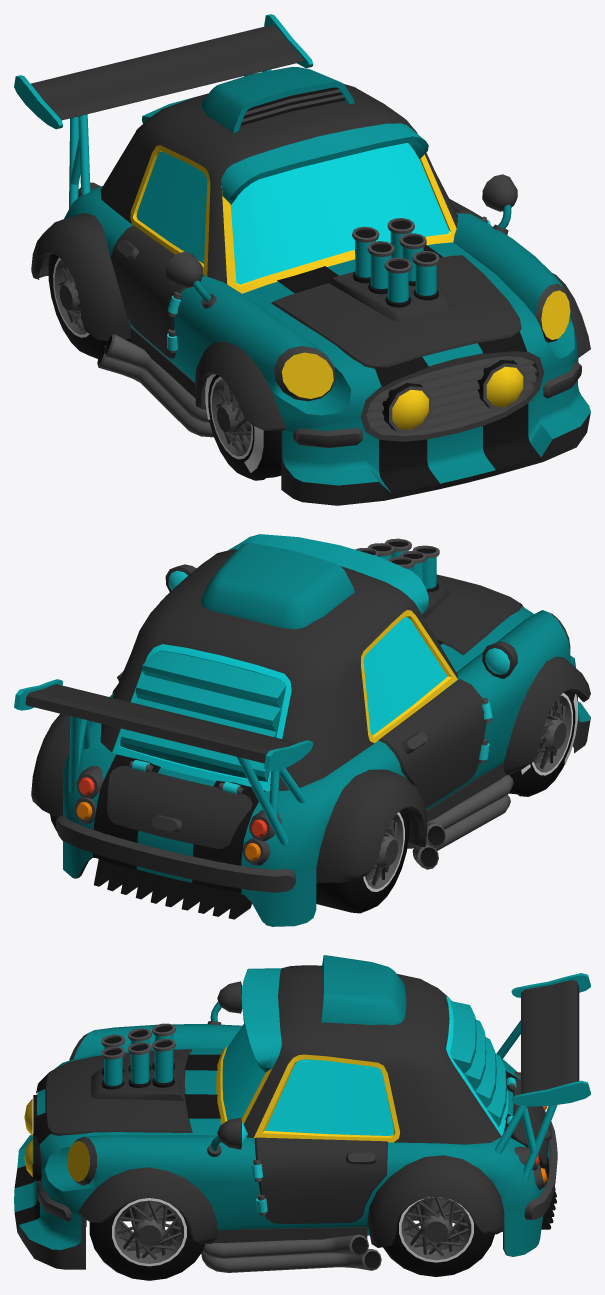
The model's file is VEH16-C.fbx.
The picture shows the model from 3 angles, top to bottom: view 1: azimuth 30°, elevation 25°; view 2: azimuth 150°, elevation 25°; view 3: azimuth 270°, elevation 25°; orthographic projection. The views are drawn at different scales.
Visible parts, largest first — view 1: VEH16_C, V16C_Wheel_FR, V16C_Wheel_BR; view 2: VEH16_C, V16C_Wheel_BR, V16C_Wheel_FR; view 3: VEH16_C, V16C_Wheel_FL, V16C_Wheel_BL.
Part boxes in pixels (x1=…): VEH16_C: x1=14, y1=14, x2=590, y2=505; V16C_Wheel_FR: x1=205, y1=374, x2=281, y2=480; V16C_Wheel_BR: x1=48, y1=254, x2=130, y2=358; VEH16_C: x1=14, y1=534, x2=590, y2=926; V16C_Wheel_BR: x1=316, y1=808, x2=409, y2=913; V16C_Wheel_FR: x1=509, y1=690, x2=577, y2=796; VEH16_C: x1=14, y1=955, x2=590, y2=1272; V16C_Wheel_FL: x1=89, y1=1198, x2=205, y2=1280; V16C_Wheel_BL: x1=383, y1=1197, x2=494, y2=1276.
Bounding box in the file's own units: 264 × 202 × 430.
Materials: 1 (1 with a texture image).
